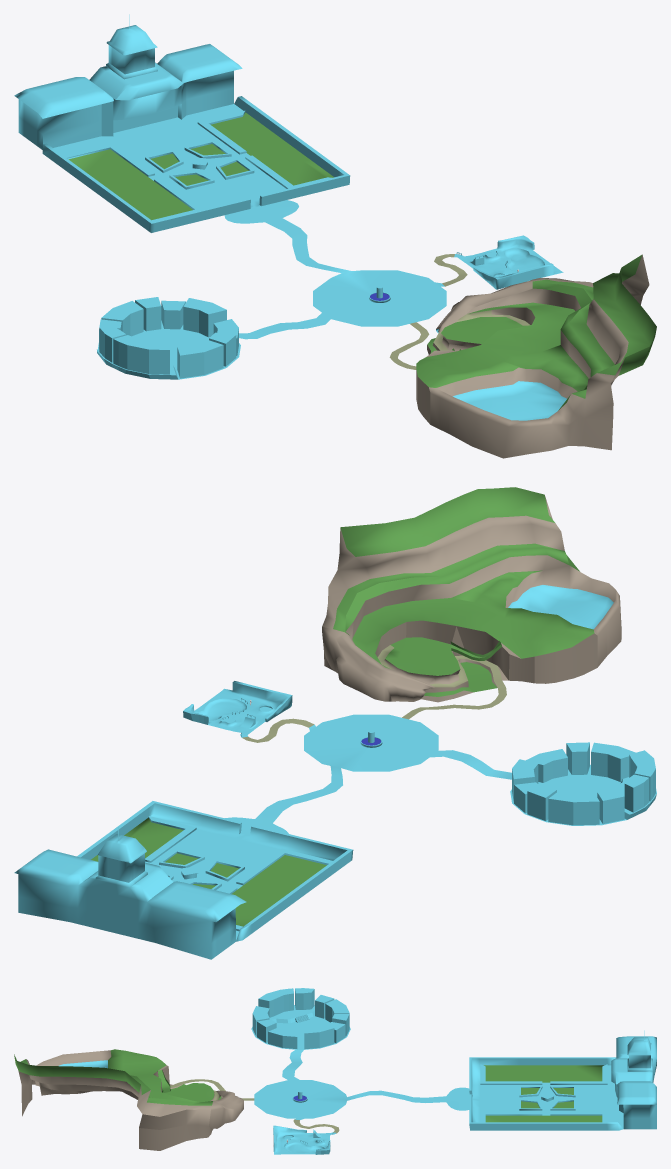
File: map_blockout.fbx
3 renders of one model, top to bottom at view 1: azimuth 30°, elevation 25°; view 2: azimuth 150°, elevation 25°; view 3: azimuth 270°, elevation 25°, orthographic. The views are drawn at different scales.
Visible parts, largest first — view 1: Terrain_grass; view 2: Terrain_grass; view 3: Terrain_grass.
Boxes of the visible parts, bbox=[...] form: Terrain_grass: bbox=[14, 14, 656, 458]; Terrain_grass: bbox=[14, 487, 656, 959]; Terrain_grass: bbox=[14, 988, 656, 1154].
Bounding box in the file's own units: 4845 × 1172 × 8941.
